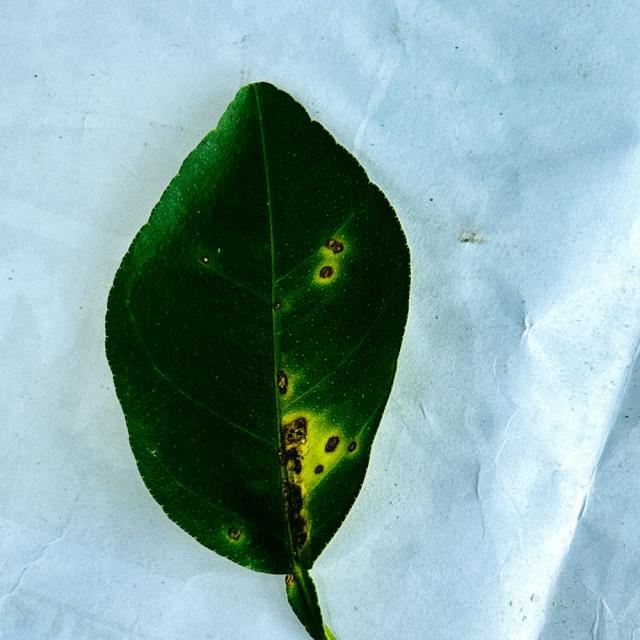Anthracnose: (287, 413, 358, 488), (277, 413, 313, 554), (304, 227, 349, 288), (281, 412, 316, 451), (277, 372, 298, 402)
Lemon: (105, 83, 412, 639)
